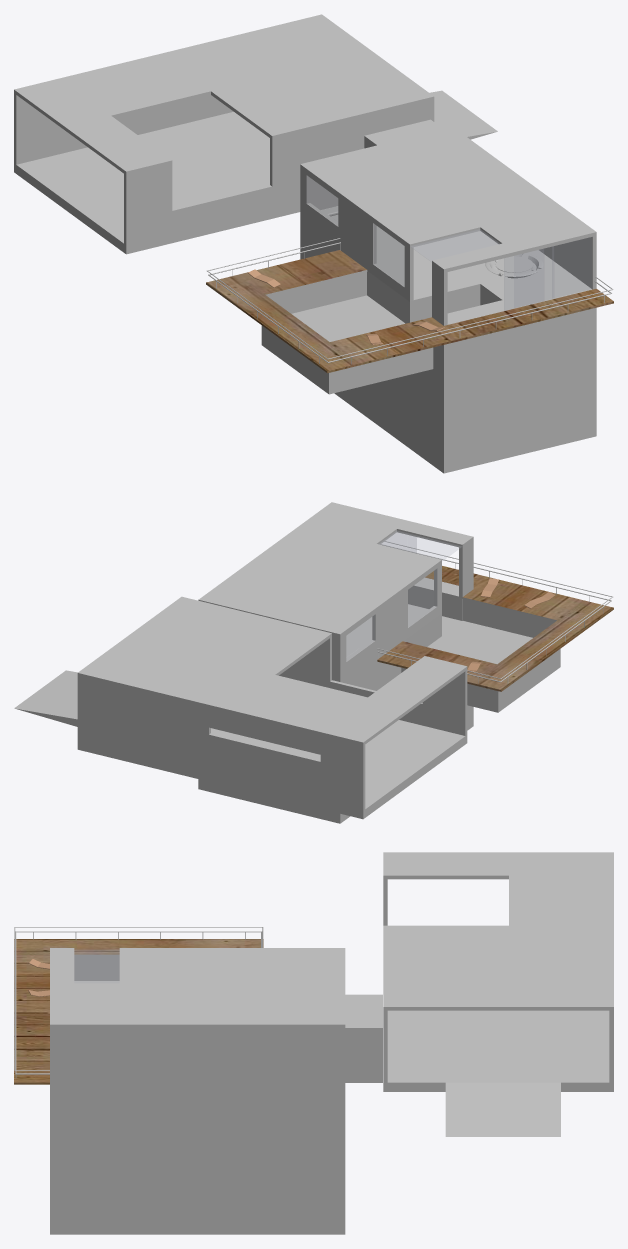
Rendered from House.fbx.
The picture shows the model from 3 angles, top to bottom: view 1: azimuth 30°, elevation 25°; view 2: azimuth 150°, elevation 25°; view 3: azimuth 270°, elevation 25°; orthographic projection. The views are drawn at different scales.
Parts seen in each view (by area): view 1: Wand, terrasse_1, Becken, glas, gelaender, rampe, Tisch; view 2: Wand, terrasse_1, Becken, glas, rampe, gelaender, liegen; view 3: Wand, terrasse_1, rampe, glas, gelaender, Becken.
Boxes of the visible parts, x1,y1,x2,y2 form: Wand: (14, 14, 596, 473); terrasse_1: (206, 250, 613, 373); Becken: (261, 272, 433, 394); glas: (307, 176, 591, 310); gelaender: (207, 238, 613, 364); rampe: (429, 90, 497, 139); Tisch: (485, 254, 543, 278); Wand: (77, 502, 473, 823); terrasse_1: (377, 566, 613, 691); Becken: (401, 599, 560, 712); glas: (346, 531, 461, 660); rampe: (14, 670, 77, 726); gelaender: (377, 541, 612, 683); liegen: (467, 578, 555, 671); Wand: (50, 852, 613, 1234); terrasse_1: (14, 939, 263, 1084); rampe: (445, 1082, 560, 1136); glas: (74, 950, 119, 982); gelaender: (14, 927, 263, 1077); Becken: (74, 956, 119, 983).
Bounding box in the file's own units: 2106 × 1106 × 2645.
